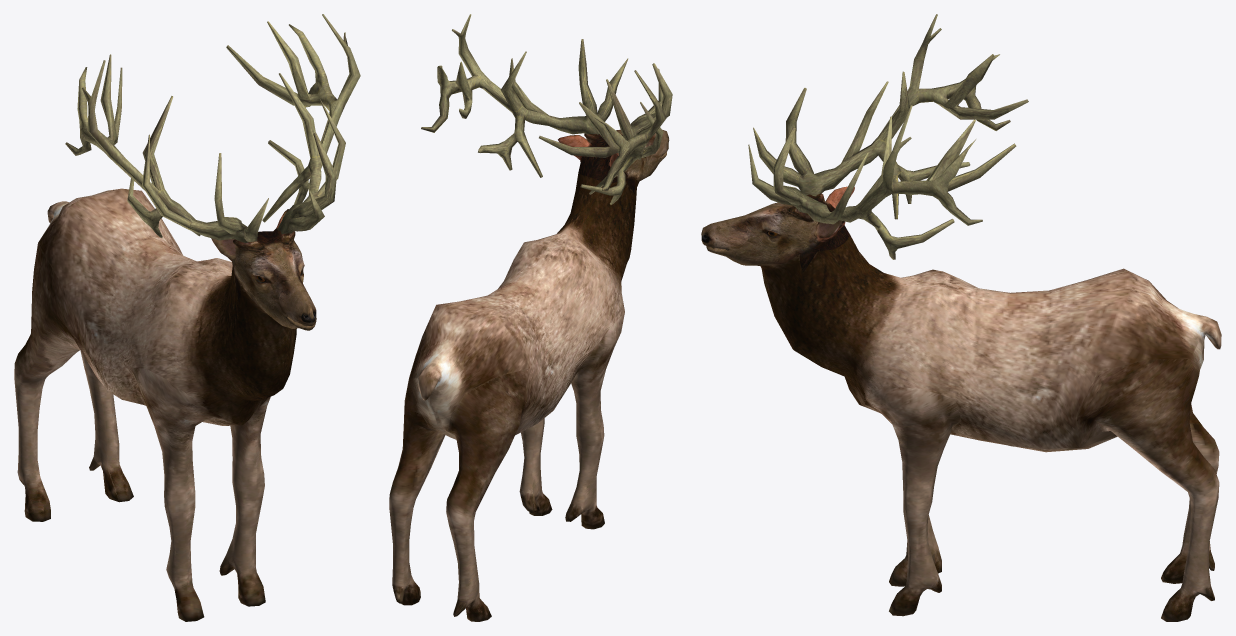
The model's file is deer.gltf.
3 views of the same model, side by side, from view 1: azimuth 30°, elevation 25°; view 2: azimuth 150°, elevation 25°; view 3: azimuth 270°, elevation 25° (orthographic). The views are drawn at different scales.
Parts seen in each view (by area): view 1: Body; view 2: Body; view 3: Body.
Boxes of the visible parts, x1=… form: Body: x1=14, y1=14, x2=360, y2=621; Body: x1=389, y1=14, x2=672, y2=621; Body: x1=701, y1=14, x2=1221, y2=621.
Size of the model in its own units: 1.27 by 2.71 by 2.35.
Materials: 1 (1 with a texture image).
